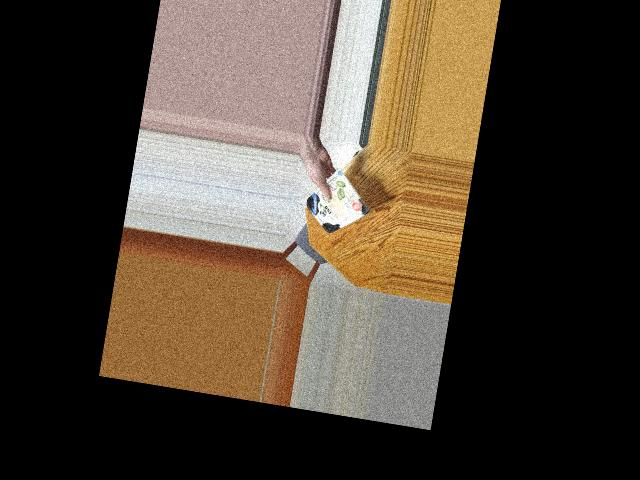cheese: (303, 176, 365, 231)
